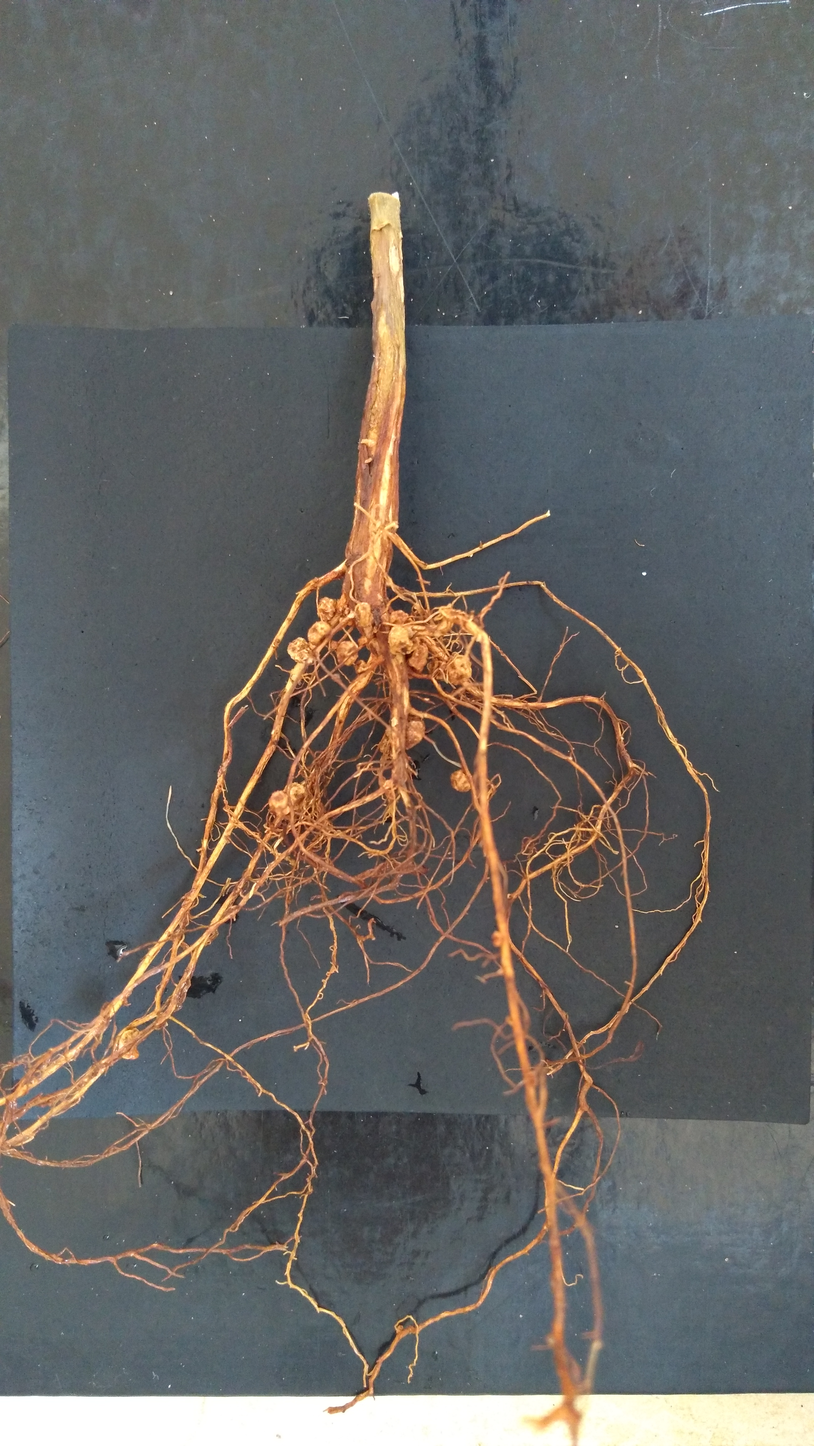nodule: (445, 652, 474, 688), (385, 623, 415, 657), (403, 712, 427, 752), (116, 1026, 141, 1061), (285, 636, 314, 664), (406, 642, 430, 675), (353, 601, 375, 636), (306, 619, 332, 646), (265, 789, 291, 815), (316, 595, 338, 623), (336, 640, 359, 666), (449, 768, 472, 793), (283, 781, 307, 802), (389, 608, 409, 625), (367, 637, 382, 657), (489, 929, 504, 949), (352, 659, 370, 674), (357, 635, 368, 646), (329, 639, 339, 650)
